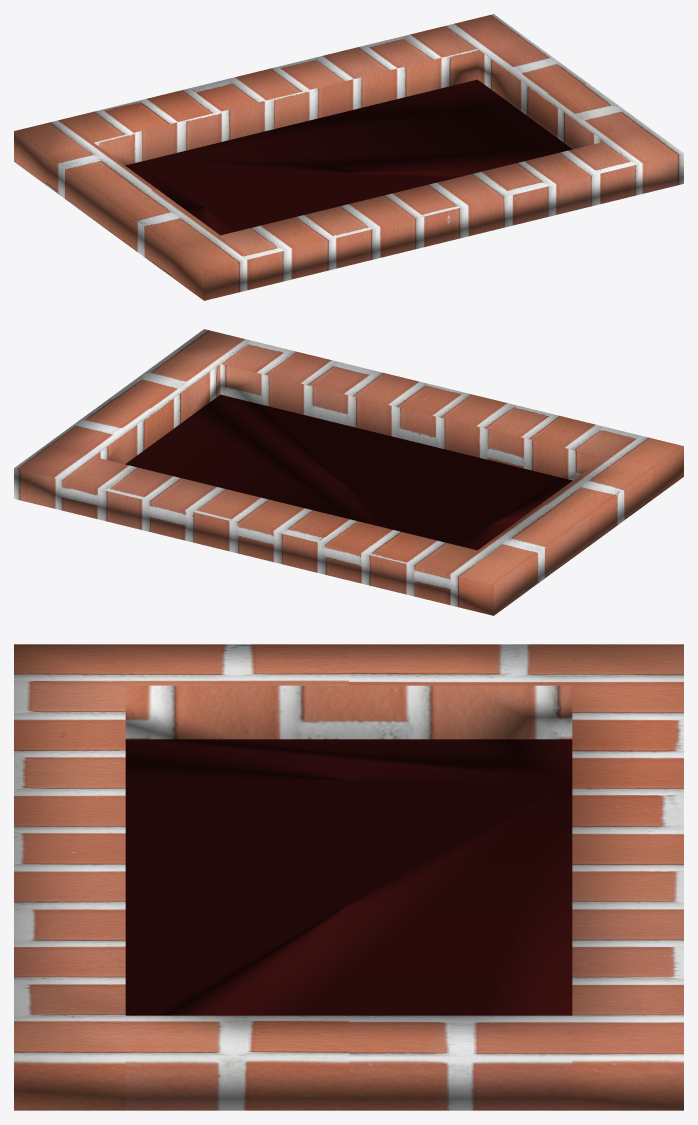
Rendered from Flower_Bed.fbx.
3 renders of one model, top to bottom at view 1: azimuth 30°, elevation 25°; view 2: azimuth 150°, elevation 25°; view 3: azimuth 270°, elevation 25°, orthographic. The views are drawn at different scales.
Visible parts, largest first — view 1: 立方体.003; view 2: 立方体.003; view 3: 立方体.003.
Part boxes in pixels (bbox=[...]): 立方体.003: bbox=[14, 14, 683, 300]; 立方体.003: bbox=[14, 329, 683, 615]; 立方体.003: bbox=[14, 644, 683, 1110].
Size of the model in its own units: 4.01 by 0.2447 by 2.76.
